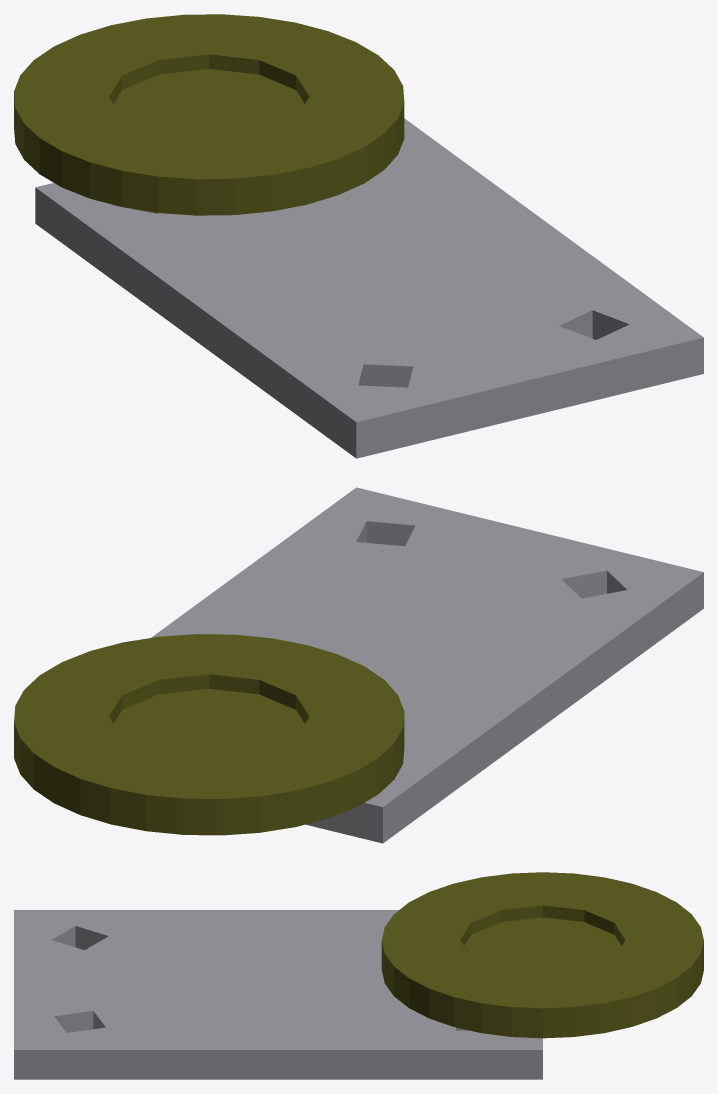
3 views of the same model, one above another, from view 1: azimuth 30°, elevation 25°; view 2: azimuth 150°, elevation 25°; view 3: azimuth 270°, elevation 25° (orthographic). The views are drawn at different scales.
Visible parts, largest first — view 1: eus_glvertices (×2); view 2: eus_glvertices (×2); view 3: eus_glvertices (×2).
Boxes of the visible parts, box(x1,y1,x2,y2) form: eus_glvertices (×2): box(14, 14, 703, 458); eus_glvertices (×2): box(14, 487, 703, 843); eus_glvertices (×2): box(14, 872, 703, 1079).
Bounding box in the file's own units: 0.02 × 0.00465 × 0.0418.
